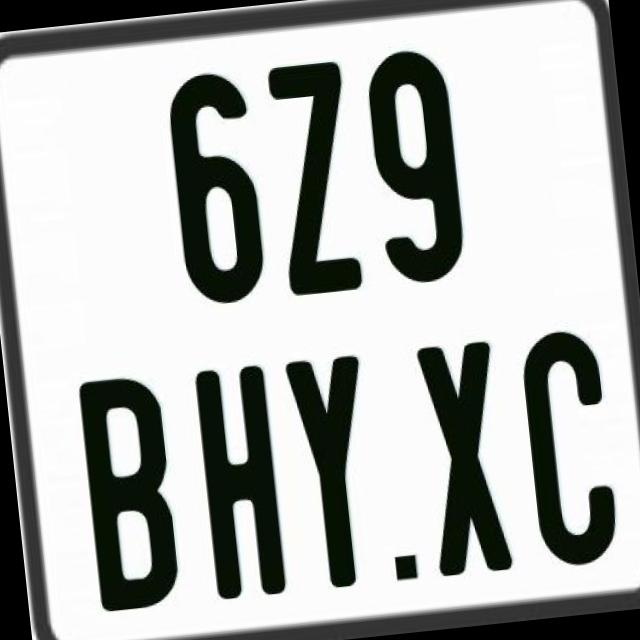6: (161, 64, 271, 306)
9: (359, 42, 469, 290)
B: (76, 370, 180, 610)
C: (516, 325, 618, 567)
H: (192, 359, 292, 603)
X: (415, 336, 520, 582)
Y: (284, 349, 388, 595)
Z: (262, 60, 366, 306)
